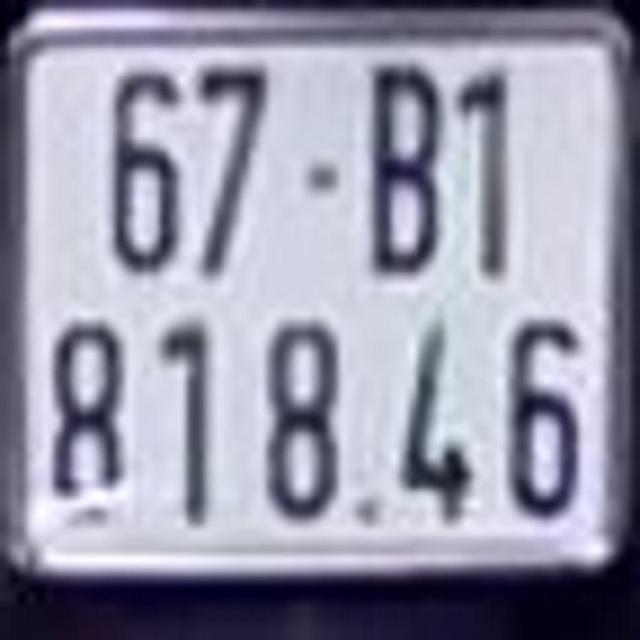1: (156, 312, 223, 523), (454, 61, 510, 278)
4: (397, 296, 478, 521)
6: (502, 314, 580, 519), (110, 66, 178, 264)
7: (193, 62, 267, 268)
8: (256, 306, 341, 521), (51, 321, 128, 505)
B: (365, 62, 438, 272)
